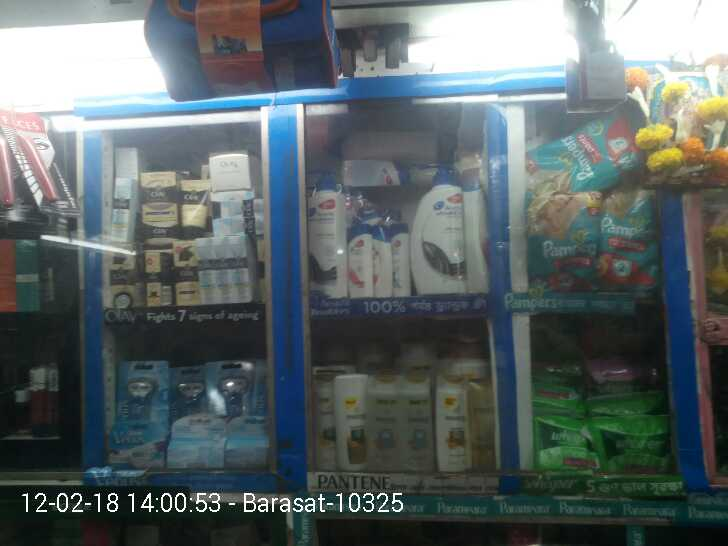venus: (207, 361, 262, 414), (169, 417, 229, 463), (110, 417, 169, 461), (119, 359, 170, 407), (229, 419, 270, 463), (170, 361, 207, 407)
